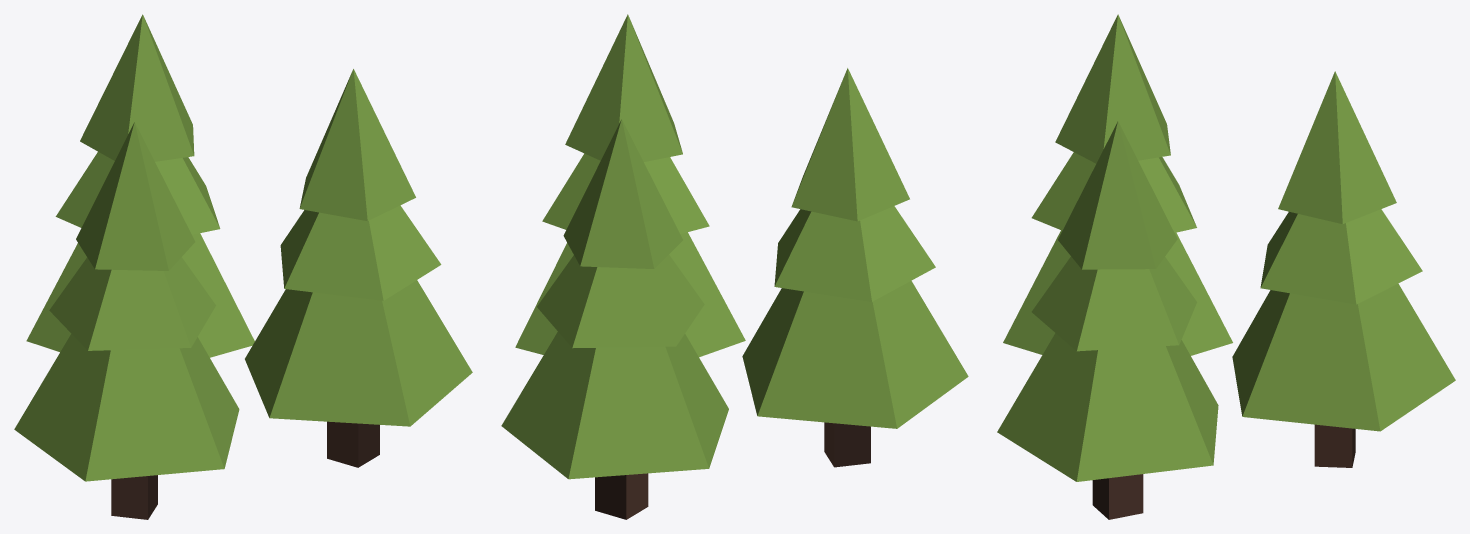
File: TB_Env_TreeTB_C_Med.FBX
The picture shows the model from 3 angles, left to right: view 1: azimuth 30°, elevation 25°; view 2: azimuth 150°, elevation 25°; view 3: azimuth 270°, elevation 25°; orthographic projection.
Parts seen in each view (by area): view 1: TB_Env_TreeTB_C_Med; view 2: TB_Env_TreeTB_C_Med; view 3: TB_Env_TreeTB_C_Med.
Part boxes in pixels (x1,y1,x2,y2): TB_Env_TreeTB_C_Med: [14, 14, 472, 519]; TB_Env_TreeTB_C_Med: [501, 14, 968, 519]; TB_Env_TreeTB_C_Med: [997, 14, 1455, 519].
Bounding box in the file's own units: 6.22 × 5.74 × 6.14.
